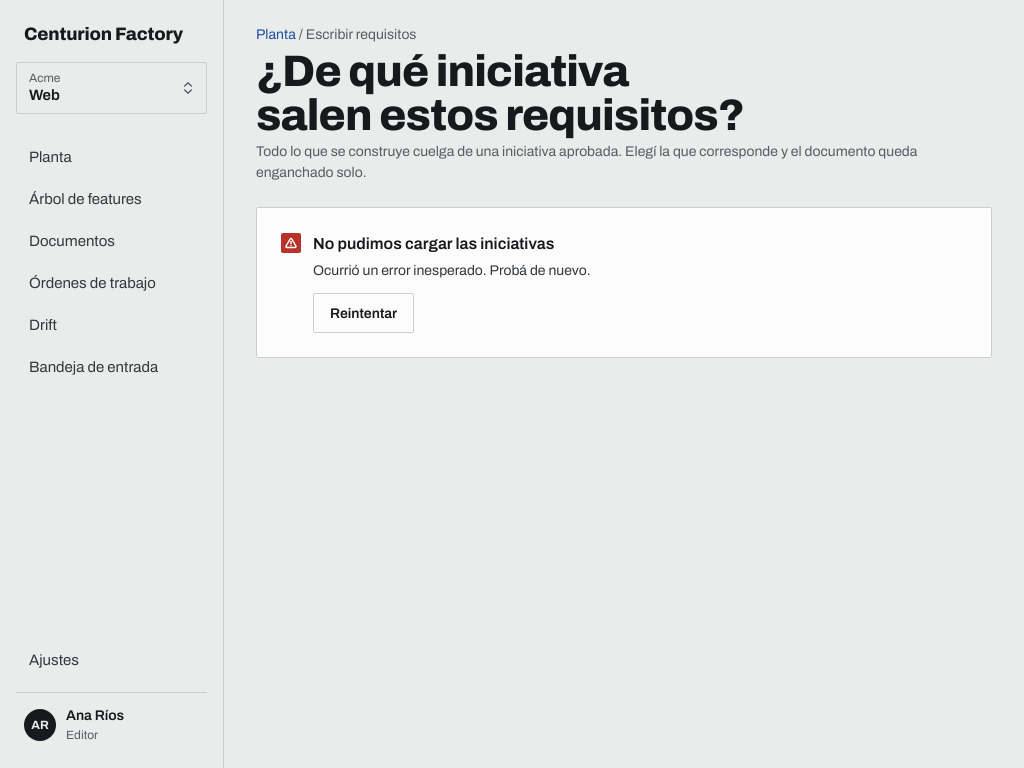
Test: ConstruirProducto — around the edges (WO-554, SDD-052) › says it could not read the line, and can try again
This screenshot has width=1024, height=768.
Expected: the text "No pudimos cargar las iniciativas" is shown, [313,235,554,252]
What coordinates should you click on to do the following:
click the button "Reintentar"
I would click on:
 (364, 313)
Its box is [313,293,414,333].
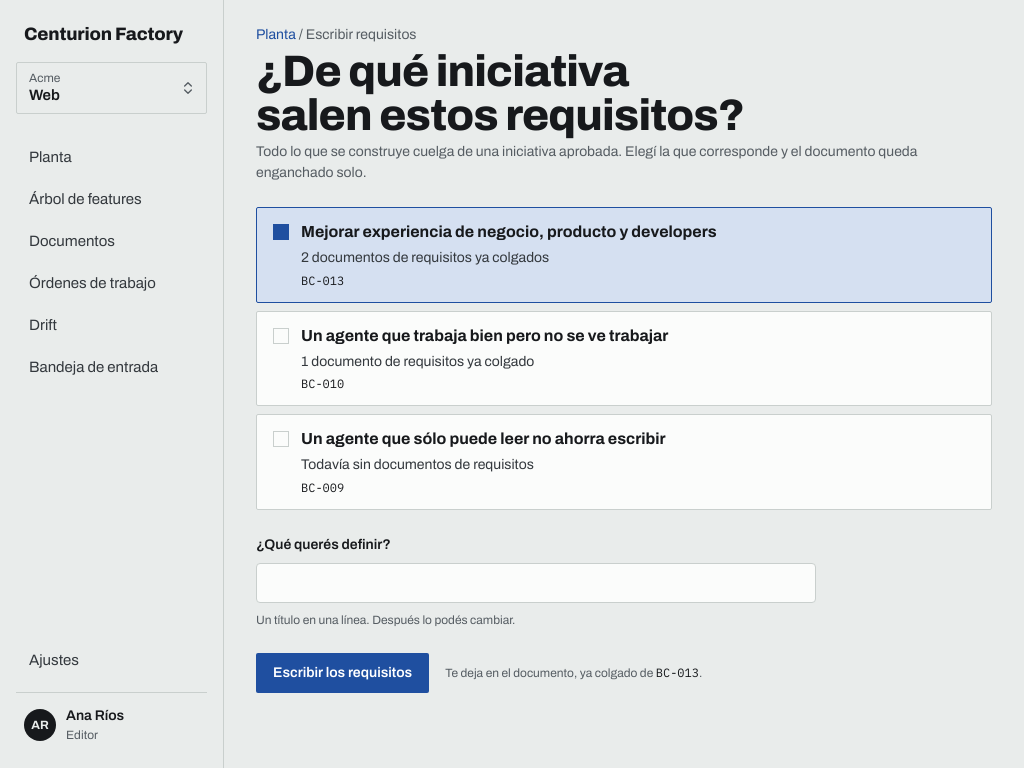
Expected: the element named "Elegí la iniciativa" is shown, [256,207,992,510]
